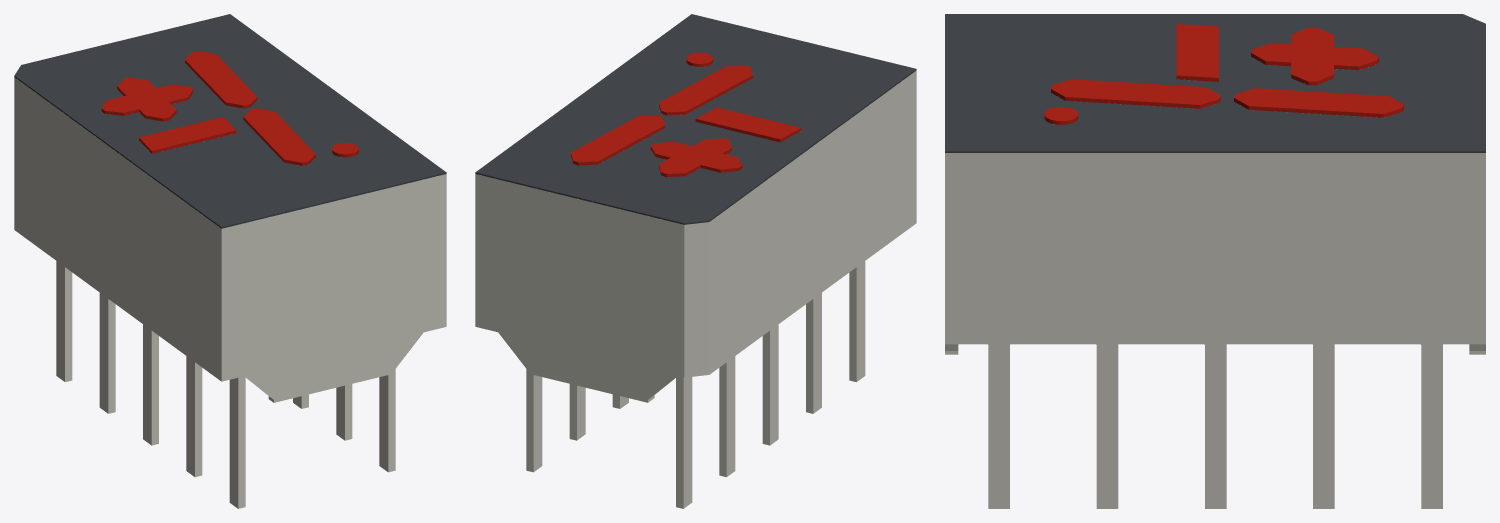
File: kc-hdsp-7507.glb
The picture shows the model from 3 angles, left to right: view 1: azimuth 30°, elevation 25°; view 2: azimuth 150°, elevation 25°; view 3: azimuth 270°, elevation 25°; orthographic projection. The views are drawn at different scales.
Parts seen in each view (by area): view 1: 0.6666666666666666_0.6666666666666666_0.5833333333333334_0.8, 0.08333333333333333_0.08333333333333333_0.08333333333333333_, 0.4166666666666667_0_0_0; view 2: 0.6666666666666666_0.6666666666666666_0.5833333333333334_0.8, 0.08333333333333333_0.08333333333333333_0.08333333333333333_, 0.4166666666666667_0_0_0; view 3: 0.6666666666666666_0.6666666666666666_0.5833333333333334_0.8, 0.08333333333333333_0.08333333333333333_0.08333333333333333_, 0.4166666666666667_0_0_0.
Part boxes in pixels (x1=…): 0.6666666666666666_0.6666666666666666_0.5833333333333334_0.8: x1=14, y1=77, x2=446, y2=508; 0.08333333333333333_0.08333333333333333_0.08333333333333333_: x1=14, y1=14, x2=446, y2=228; 0.4166666666666667_0_0_0: x1=101, y1=51, x2=358, y2=165; 0.6666666666666666_0.6666666666666666_0.5833333333333334_0.8: x1=475, y1=70, x2=916, y2=508; 0.08333333333333333_0.08333333333333333_0.08333333333333333_: x1=475, y1=14, x2=916, y2=224; 0.4166666666666667_0_0_0: x1=571, y1=52, x2=801, y2=177; 0.6666666666666666_0.6666666666666666_0.5833333333333334_0.8: x1=945, y1=153, x2=1485, y2=508; 0.08333333333333333_0.08333333333333333_0.08333333333333333_: x1=945, y1=14, x2=1485, y2=152; 0.4166666666666667_0_0_0: x1=1044, y1=24, x2=1403, y2=124.
Size of the model in its own units: 0.7621 by 0.99 by 1.27.
